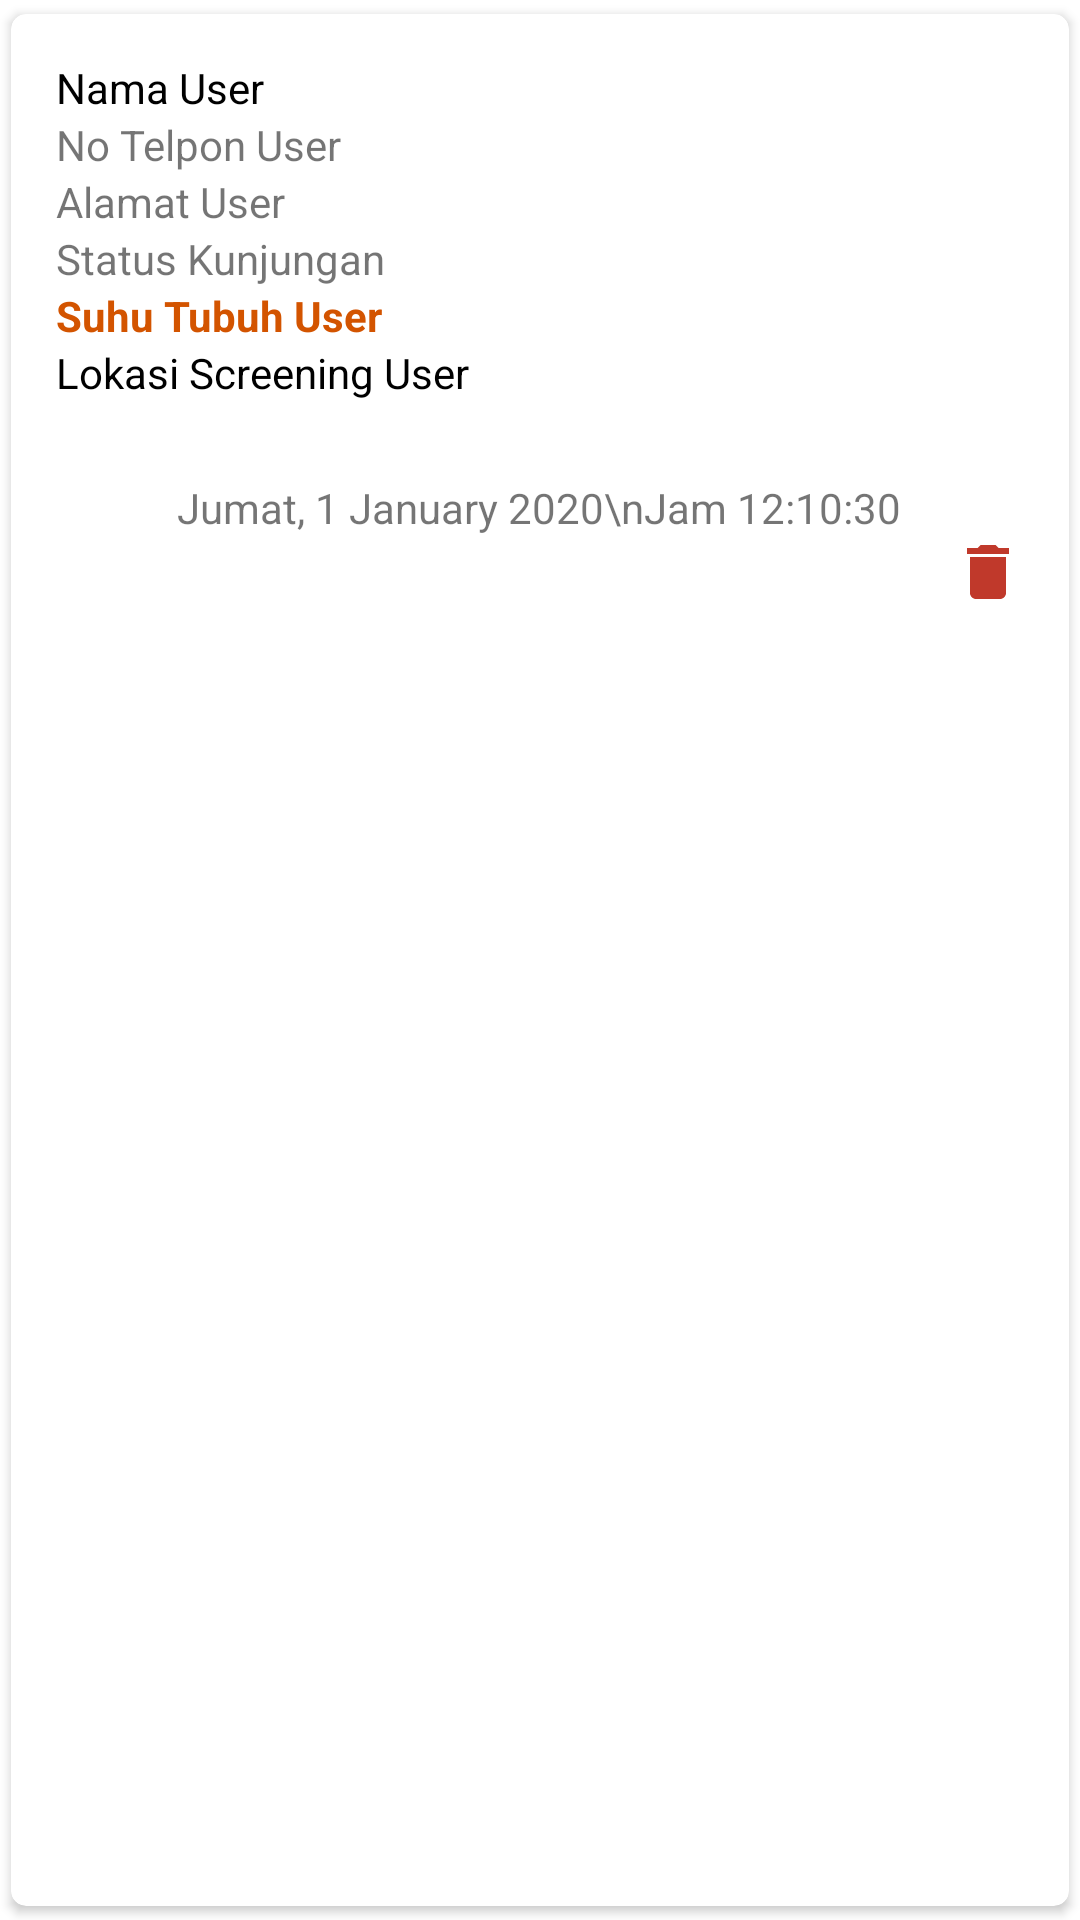

Icon click points for this 1080×1920 phone screenshot, format point (x, y):
delete: point (988, 572)
